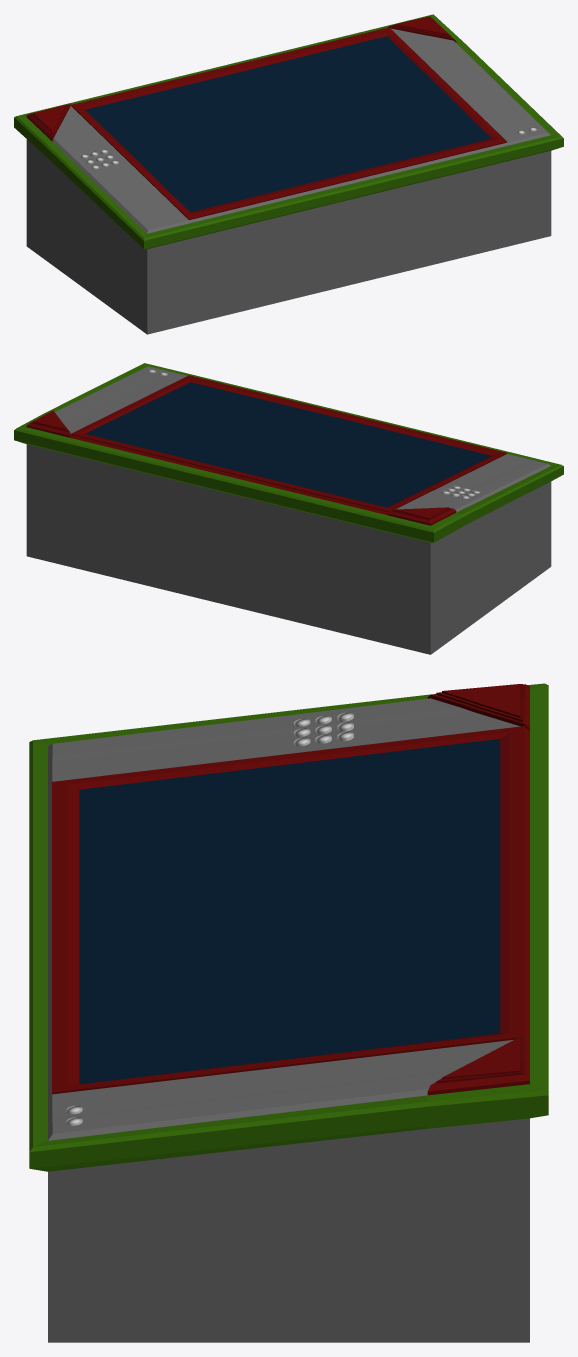
File: obj_interactive_table_rechtzoekende.FBX
3 renders of one model, top to bottom at view 1: azimuth 30°, elevation 25°; view 2: azimuth 150°, elevation 25°; view 3: azimuth 270°, elevation 25°, orthographic. The views are drawn at different scales.
Visible parts, largest first — view 1: polySurface2; view 2: polySurface2; view 3: polySurface2.
Part boxes in pixels (left/top/right/bottom): polySurface2: left=14, top=14, right=563, bottom=334; polySurface2: left=14, top=363, right=563, bottom=654; polySurface2: left=29, top=683, right=548, bottom=1342.
Bounding box in the file's own units: 102 × 31.23 × 54.67.
